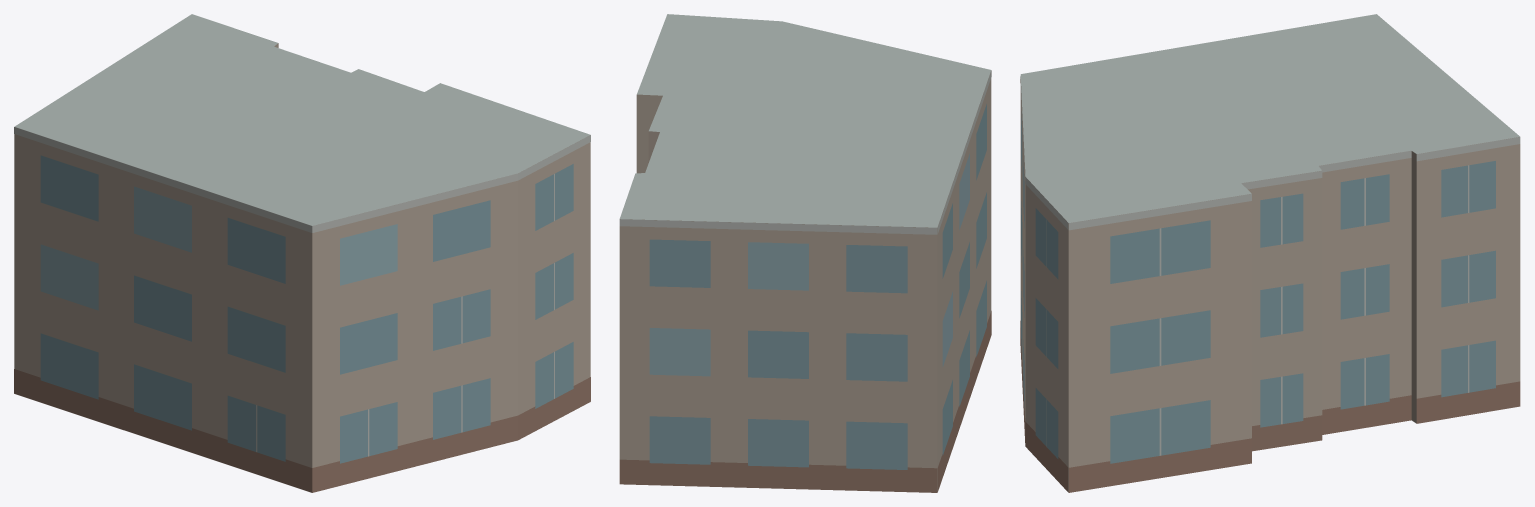
The model's file is survey-upis-32681637.glb.
3 renders of one model, left to right at view 1: azimuth 30°, elevation 25°; view 2: azimuth 150°, elevation 25°; view 3: azimuth 270°, elevation 25°, orthographic.
Visible parts, largest first — view 1: survey-upis-32681637.tmp; view 2: survey-upis-32681637.tmp; view 3: survey-upis-32681637.tmp.
Boxes of the visible parts, <box> form: survey-upis-32681637.tmp: <box>14,14,590,492</box>; survey-upis-32681637.tmp: <box>619,14,991,492</box>; survey-upis-32681637.tmp: <box>1020,14,1520,492</box>.
Bounding box in the file's own units: 15.15 × 9.1 × 15.3.
